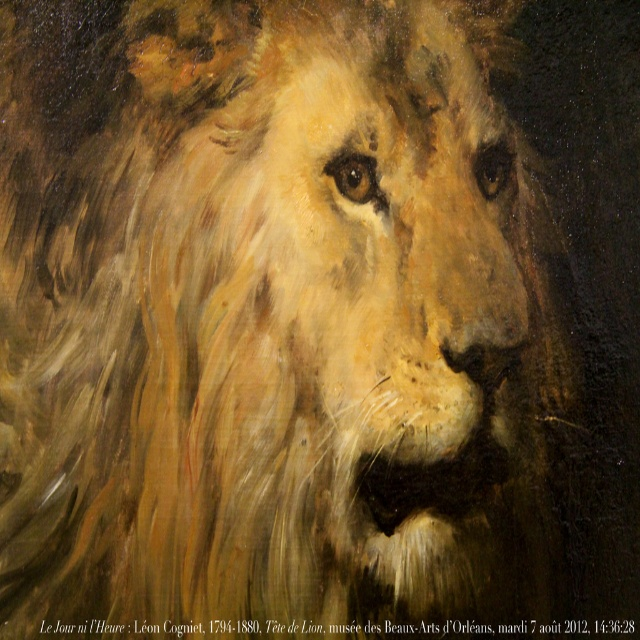Lion: (0, 0, 582, 640)
